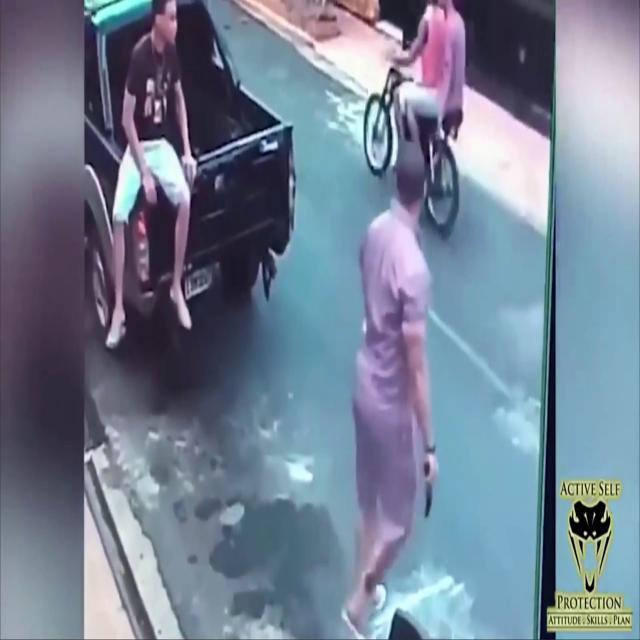gun: (422, 458, 436, 520)
